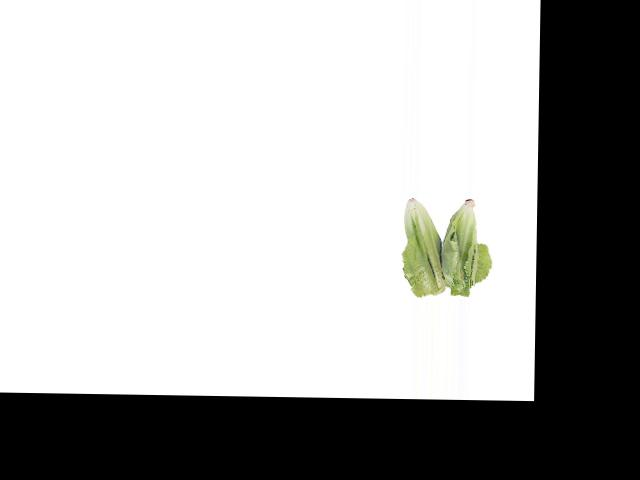lettuce: (396, 196, 483, 298)
